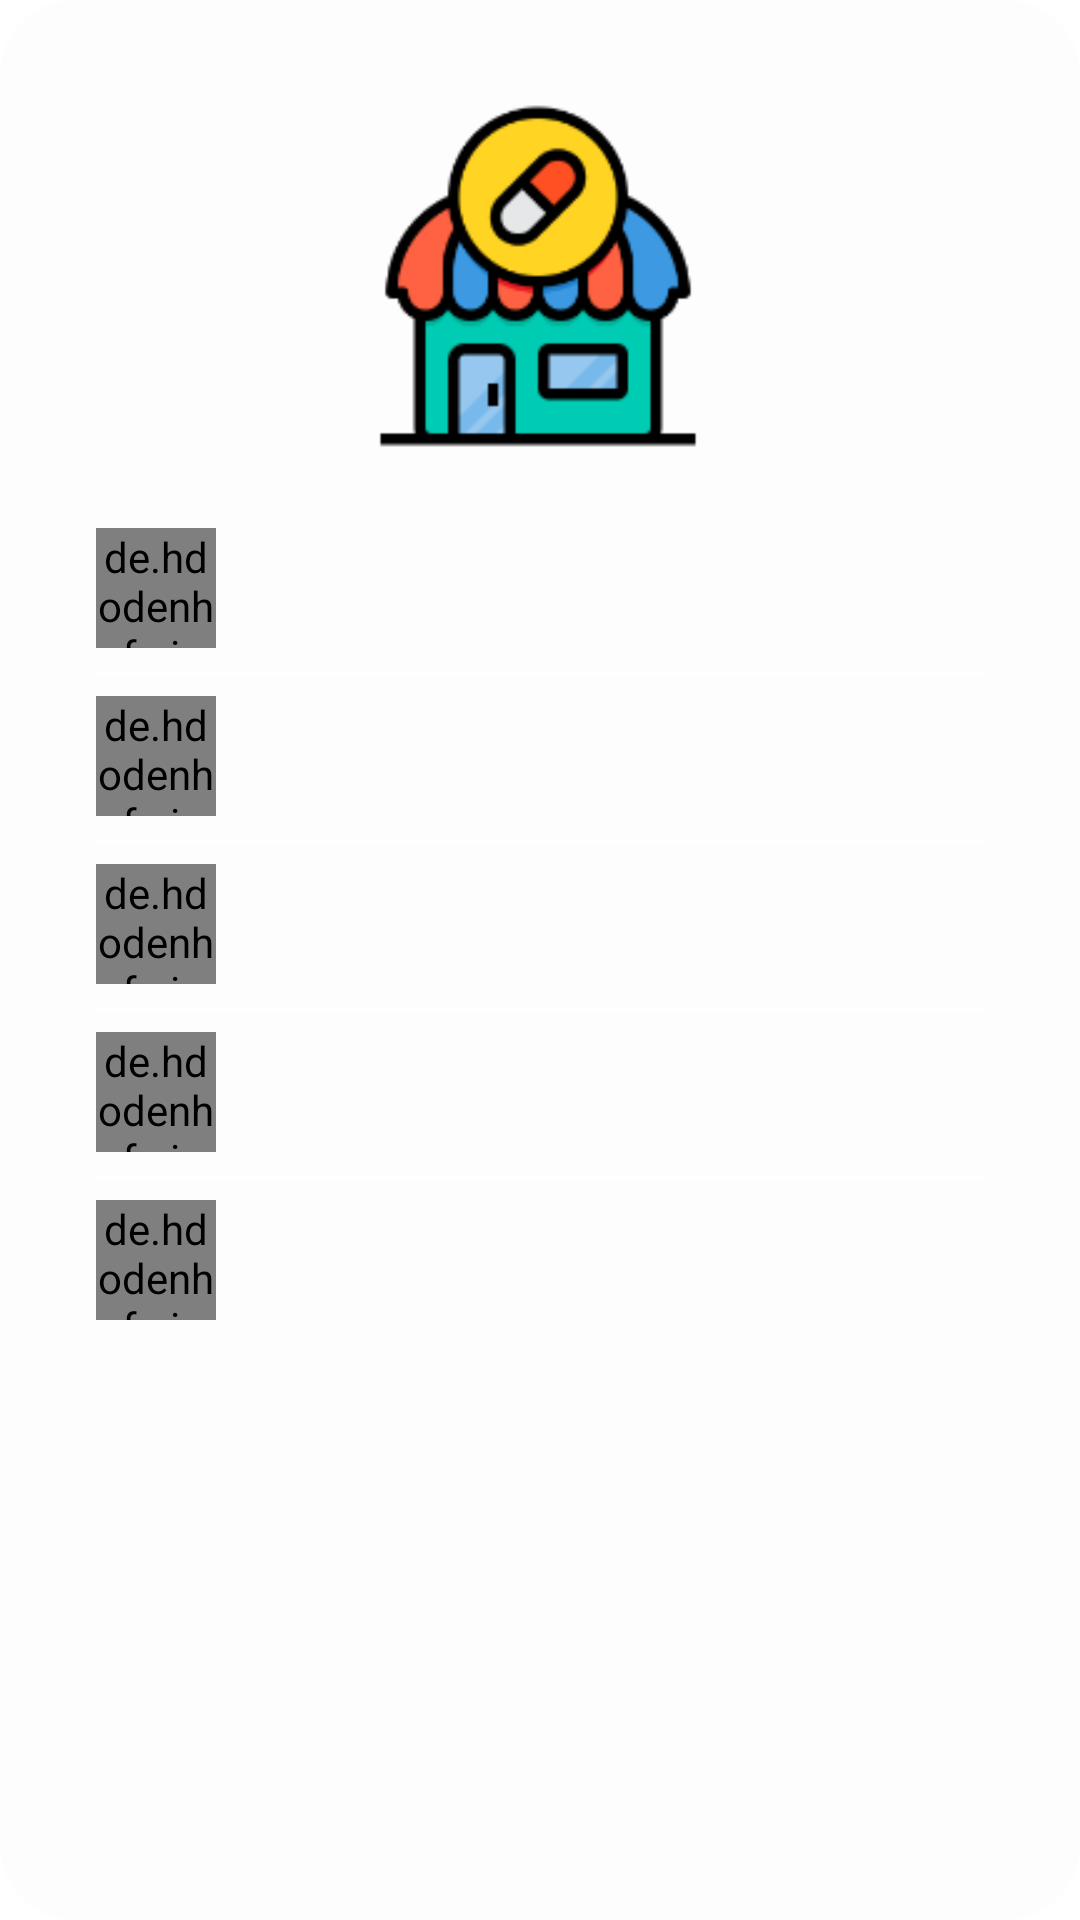

Where to tap for icons on this 1080px×1920px app screen, as (x,y):
pharmacie: (538,276)
